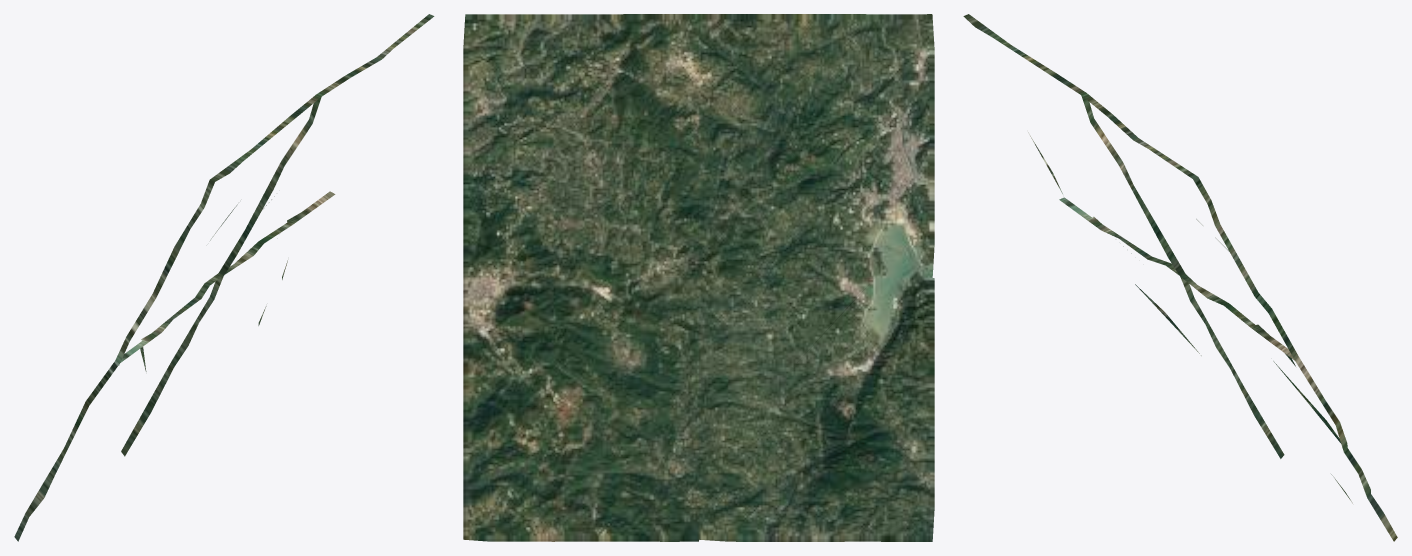
3 renders of one model, left to right at view 1: azimuth 30°, elevation 25°; view 2: azimuth 150°, elevation 25°; view 3: azimuth 270°, elevation 25°, orthographic. The views are drawn at different scales.
Size of the model in its own units: 39214 by 35573 by 33595.
Materials: 1 (1 with a texture image).
